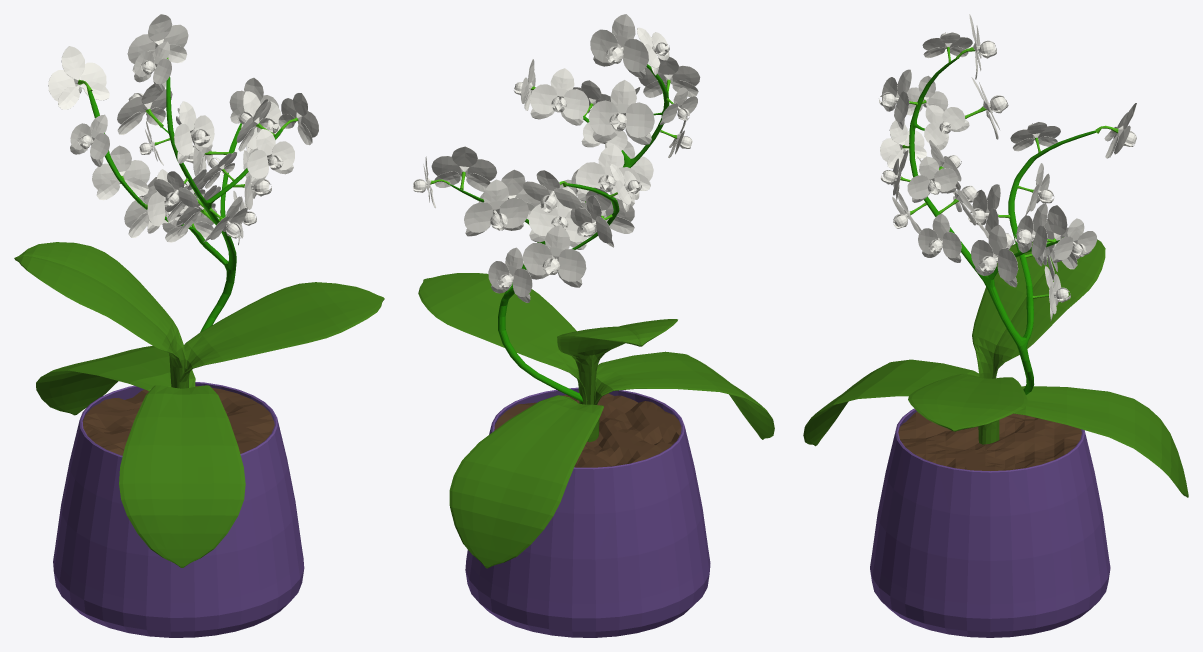
File: sweethome3d-blendswap-cc-0-orchids-123.glb
3 renders of one model, left to right at view 1: azimuth 30°, elevation 25°; view 2: azimuth 150°, elevation 25°; view 3: azimuth 270°, elevation 25°, orthographic. The views are drawn at different scales.
Visible parts, largest first — view 1: Pot_Cylinder, Leaf.001_Plane.001, Leaf.002_Plane.002, Leaf.003_Plane.003, Leaf_Plane, Pot.001_Cylinder.003, stalk_Cylinder.002, Flower.024_Plane.029, Flower.022_Plane.027, Flower.012_Plane.017, Flower.003_Plane.008, Flower.008_Plane.013 (+16 smaller); view 2: Pot_Cylinder, Leaf_Plane, Leaf.002_Plane.002, Pot.001_Cylinder.003, Leaf.001_Plane.001, Leaf.003_Plane.003, Flower.011_Plane.016, stalk_Cylinder.002, Flower.020_Plane.025, Flower.016_Plane.021, Flower.012_Plane.017, Flower.006_Plane.011 (+15 smaller); view 3: Pot_Cylinder, Leaf_Plane, Pot.001_Cylinder.003, Leaf.003_Plane.003, Leaf.002_Plane.002, Leaf.001_Plane.001, stalk_Cylinder.002, Flower.015_Plane.020, Flower.005_Plane.010, Flower_Plane.005, Flower.018_Plane.023, Flower.009_Plane.014 (+15 smaller).
Boxes of the visible parts, x1=… form: Pot_Cylinder: x1=53, y1=382, x2=304, y2=637; Leaf.001_Plane.001: x1=119, y1=385, x2=245, y2=567; Leaf.002_Plane.002: x1=178, y1=282, x2=384, y2=388; Leaf.003_Plane.003: x1=14, y1=242, x2=186, y2=388; Leaf_Plane: x1=36, y1=345, x2=195, y2=415; Pot.001_Cylinder.003: x1=82, y1=386, x2=274, y2=455; stalk_Cylinder.002: x1=88, y1=76, x2=282, y2=332; Flower.024_Plane.029: x1=48, y1=46, x2=109, y2=109; Flower.022_Plane.027: x1=92, y1=145, x2=150, y2=200; Flower.012_Plane.017: x1=127, y1=14, x2=188, y2=73; Flower.003_Plane.008: x1=247, y1=129, x2=294, y2=184; Flower.008_Plane.013: x1=173, y1=101, x2=214, y2=163; Pot_Cylinder: x1=465, y1=387, x2=710, y2=637; Leaf_Plane: x1=449, y1=395, x2=603, y2=568; Leaf.002_Plane.002: x1=418, y1=273, x2=596, y2=404; Pot.001_Cylinder.003: x1=494, y1=393, x2=681, y2=467; Leaf.001_Plane.001: x1=594, y1=351, x2=774, y2=439; Leaf.003_Plane.003: x1=557, y1=319, x2=677, y2=404; Flower.011_Plane.016: x1=588, y1=80, x2=654, y2=144; stalk_Cylinder.002: x1=449, y1=64, x2=669, y2=402; Flower.020_Plane.025: x1=522, y1=225, x2=586, y2=287; Flower.016_Plane.021: x1=464, y1=179, x2=528, y2=236; Flower.012_Plane.017: x1=590, y1=14, x2=648, y2=78; Flower.006_Plane.011: x1=530, y1=68, x2=589, y2=125; Pot_Cylinder: x1=870, y1=408, x2=1110, y2=637; Leaf_Plane: x1=981, y1=386, x2=1188, y2=497; Pot.001_Cylinder.003: x1=898, y1=411, x2=1081, y2=470; Leaf.003_Plane.003: x1=972, y1=239, x2=1105, y2=378; Leaf.002_Plane.002: x1=908, y1=373, x2=1027, y2=431; Leaf.001_Plane.001: x1=803, y1=359, x2=982, y2=446; stalk_Cylinder.002: x1=909, y1=58, x2=1096, y2=394; Flower.015_Plane.020: x1=971, y1=225, x2=1018, y2=287; Flower.005_Plane.010: x1=907, y1=156, x2=957, y2=202; Flower_Plane.005: x1=918, y1=213, x2=961, y2=262; Flower.018_Plane.023: x1=1014, y1=203, x2=1055, y2=266; Flower.009_Plane.014: x1=924, y1=105, x2=969, y2=150.
Size of the model in its own units: 31.13 by 57.44 by 35.27.
